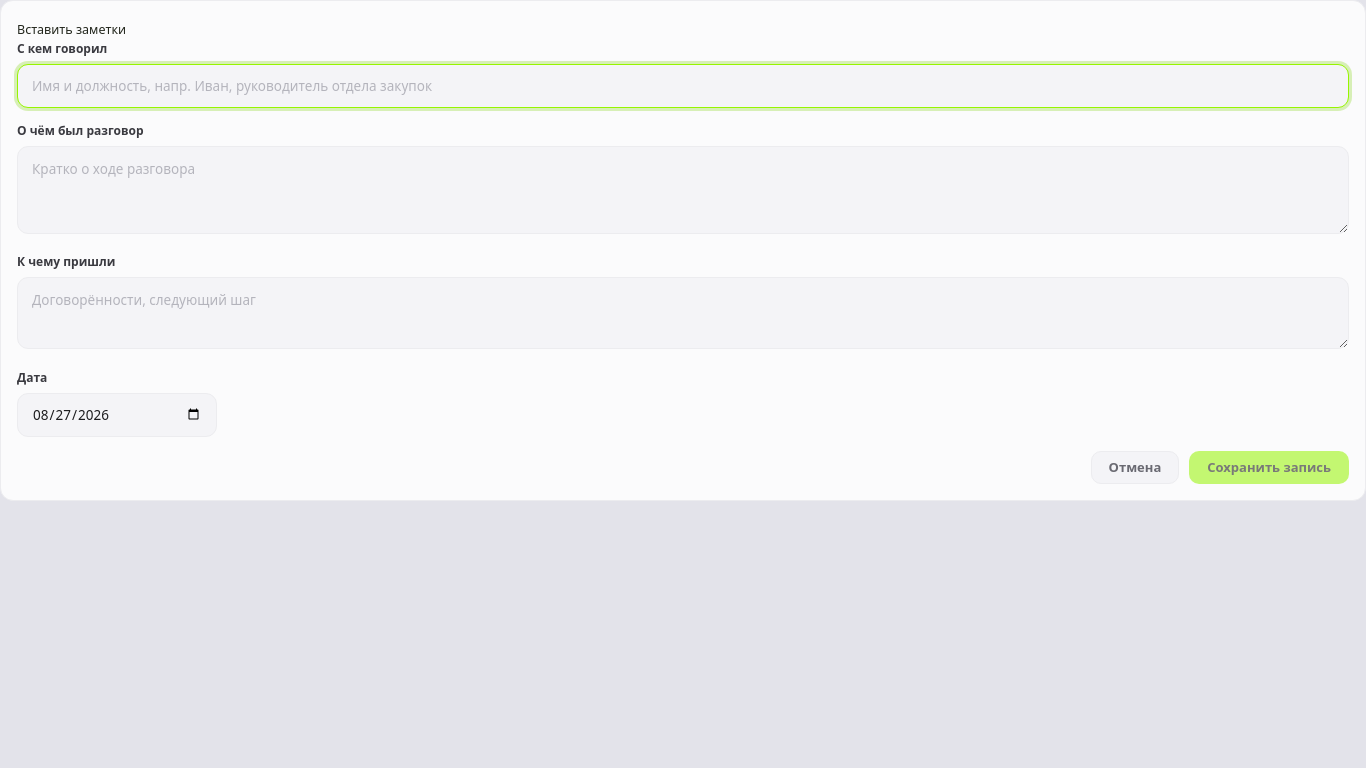
Scenario: CallLogForm › paste-notes mode › switches to paste mode and prefills fields from the AI response on success
The image size is (1366, 768).
Step 1. Click the button "Вставить заметки" → (72, 30), box [17,21,126,40]
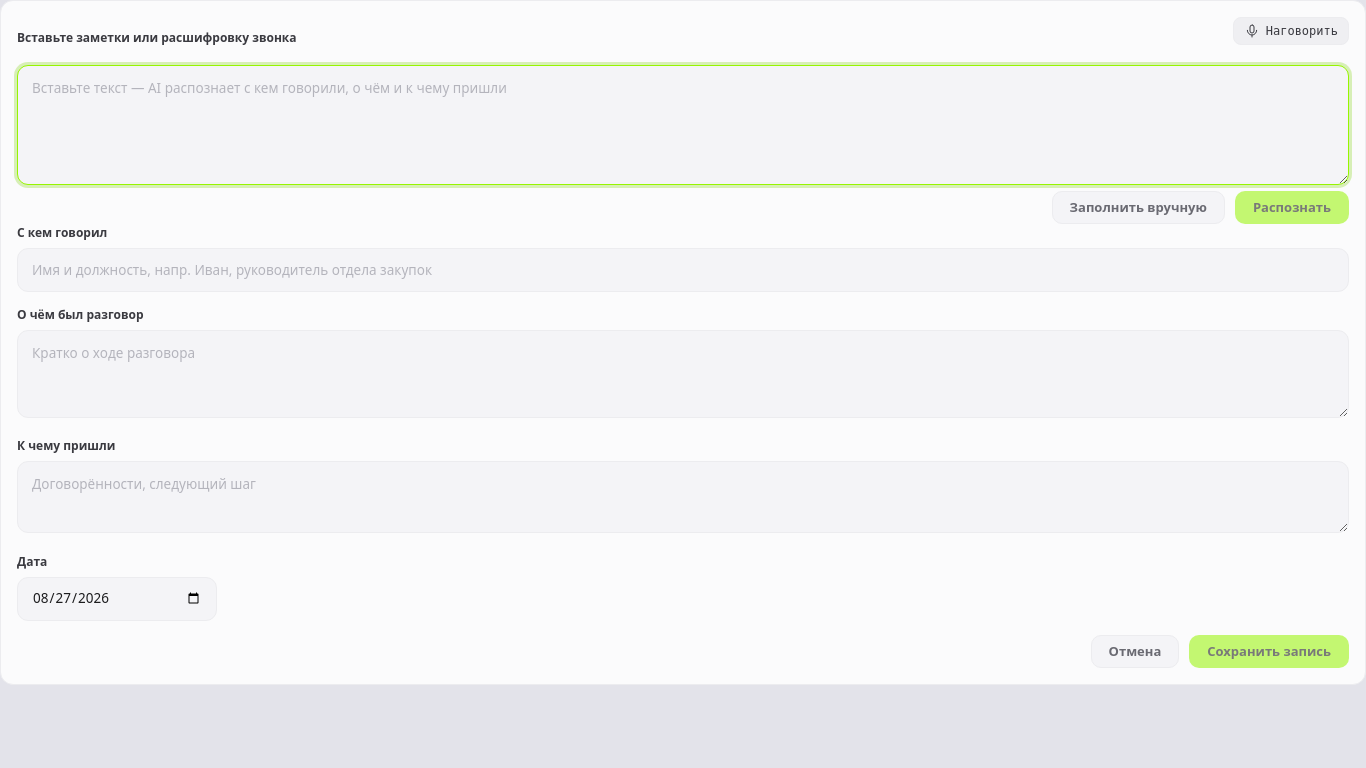
Step 2. Replace the text in the text box with placeholder "AI распознает" with "звонили Ивану, обсудили условия, взял паузу" → (683, 125), box [17,65,1349,185]
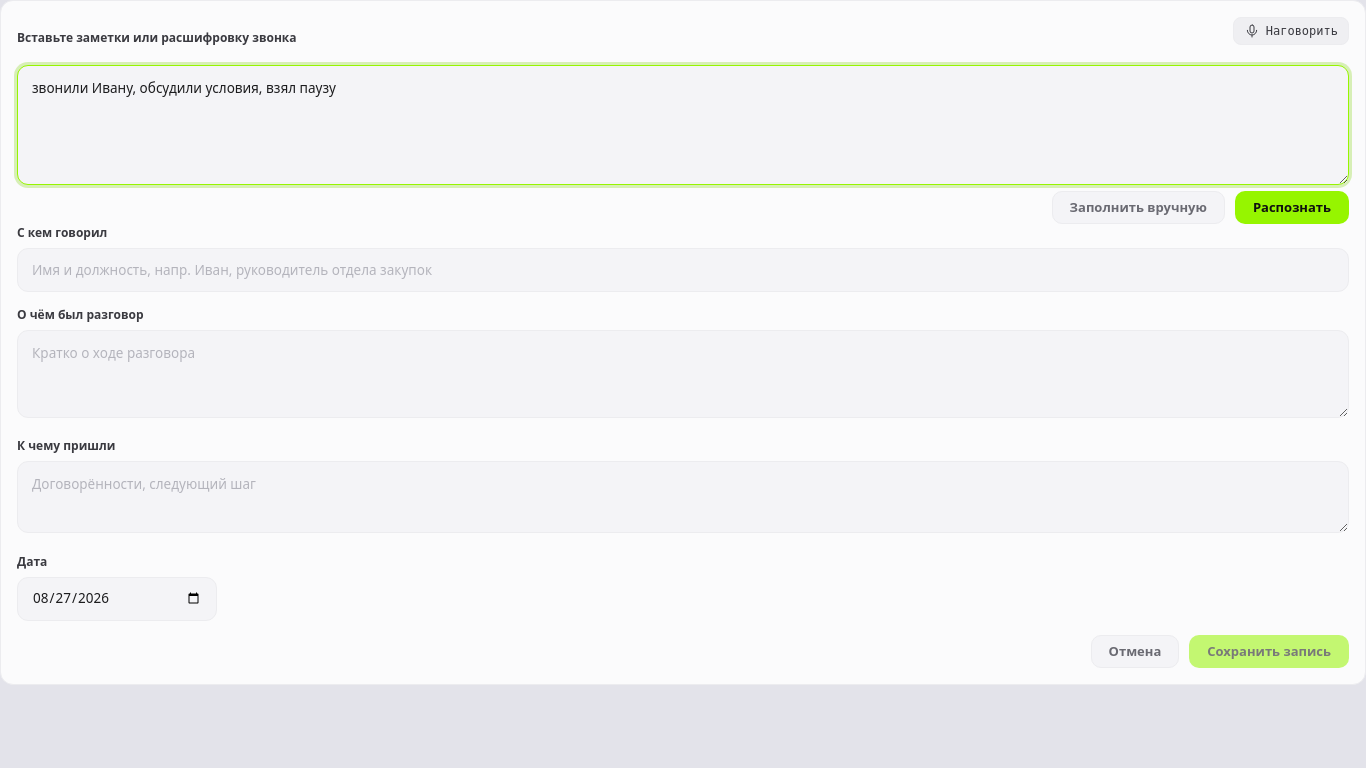
Step 3. Click the button "Распознать" → (1292, 207), box [1235,190,1349,224]
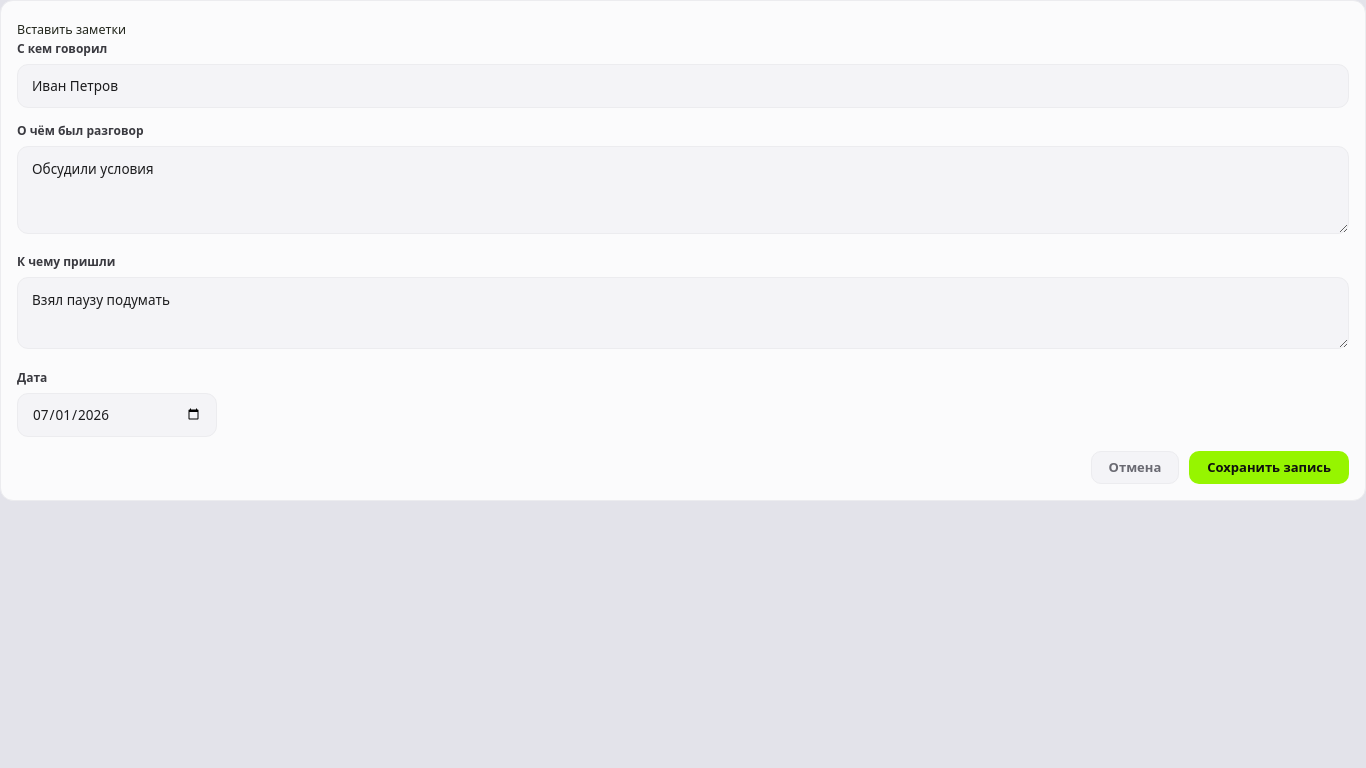
Result: the field showing "Иван Петров" is shown at [17,64,1349,108]
Result: the text box showing "Обсудили условия" is shown at [17,146,1349,234]
Result: the text box showing "Взял паузу подумать" is shown at [17,277,1349,349]
